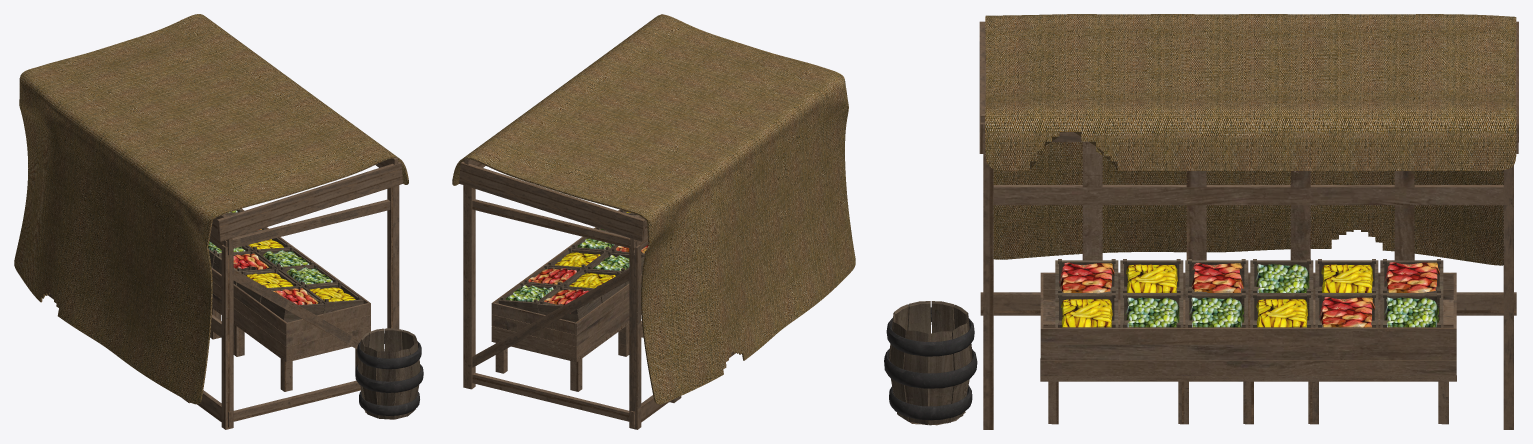
The model's file is p_market_stall.glb.
3 views of the same model, side by side, from view 1: azimuth 30°, elevation 25°; view 2: azimuth 150°, elevation 25°; view 3: azimuth 270°, elevation 25° (orthographic). The views are drawn at different scales.
Parts seen in each view (by area): view 1: Stall, Food, Barrel_2; view 2: Stall, Food; view 3: Stall, Food, Barrel_2.
Part boxes in pixels (left/top/right/bottom): Stall: left=14, top=14, right=408, bottom=429; Food: left=208, top=208, right=370, bottom=391; Barrel_2: left=355, top=328, right=423, bottom=419; Stall: left=452, top=14, right=855, bottom=429; Food: left=491, top=209, right=648, bottom=391; Stall: left=979, top=14, right=1518, bottom=429; Food: left=1040, top=259, right=1456, bottom=424; Barrel_2: left=884, top=301, right=977, bottom=425.
Size of the model in its own units: 2.73 by 2.68 by 4.88.
Materials: 7 (7 with a texture image).
